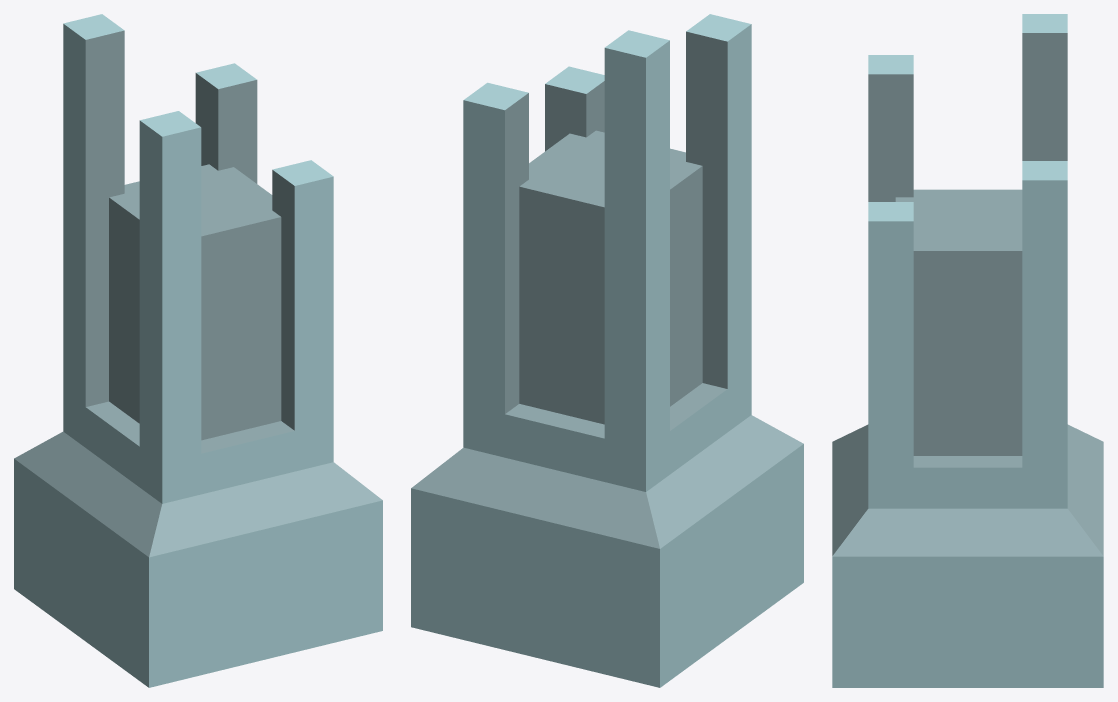
3 views of the same model, side by side, from view 1: azimuth 30°, elevation 25°; view 2: azimuth 150°, elevation 25°; view 3: azimuth 270°, elevation 25° (orthographic). The views are drawn at different scales.
Visible parts, largest first — view 1: statue_columnDamaged; view 2: statue_columnDamaged; view 3: statue_columnDamaged.
Part boxes in pixels (bbox=[...]): statue_columnDamaged: bbox=[14, 14, 382, 687]; statue_columnDamaged: bbox=[411, 14, 803, 687]; statue_columnDamaged: bbox=[832, 14, 1103, 687].
Bounding box in the file's own units: 0.3 × 0.7 × 0.3.
